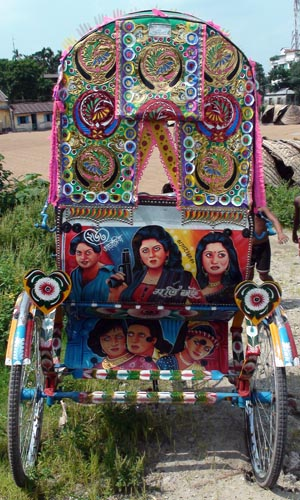Rickshaw: (7, 18, 289, 480)
